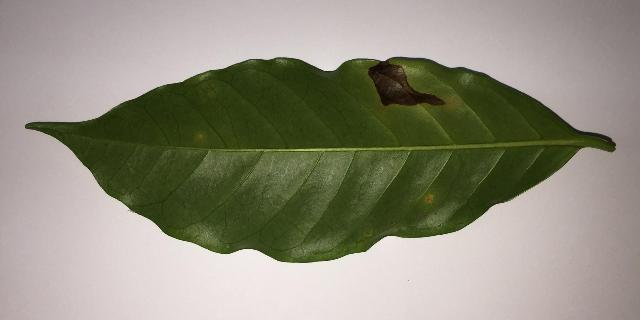cercospora: (367, 61, 461, 112), (425, 193, 434, 203)
